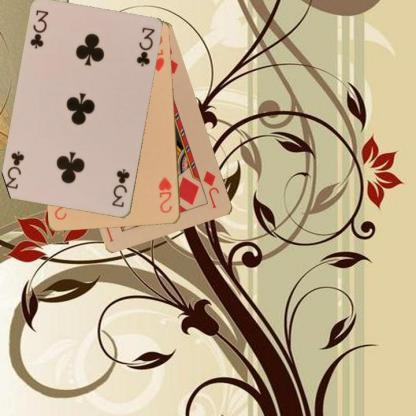2h: (156, 174, 173, 214)
3c: (28, 8, 50, 50), (110, 166, 131, 209)
Jd: (200, 168, 221, 210)
